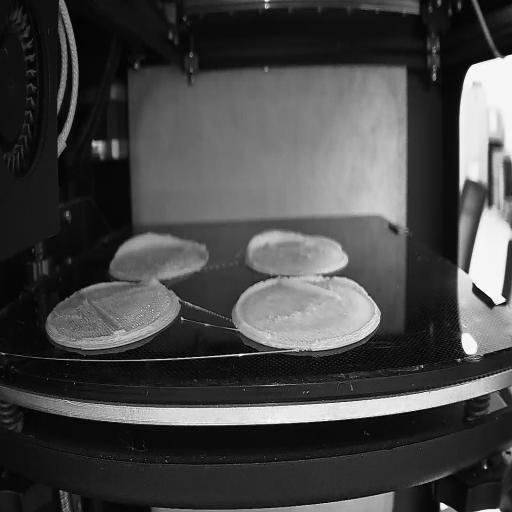over_extrusion: (232, 278, 279, 337), (280, 276, 368, 302), (113, 228, 185, 259), (246, 227, 302, 261), (307, 234, 342, 252), (146, 274, 164, 290)
